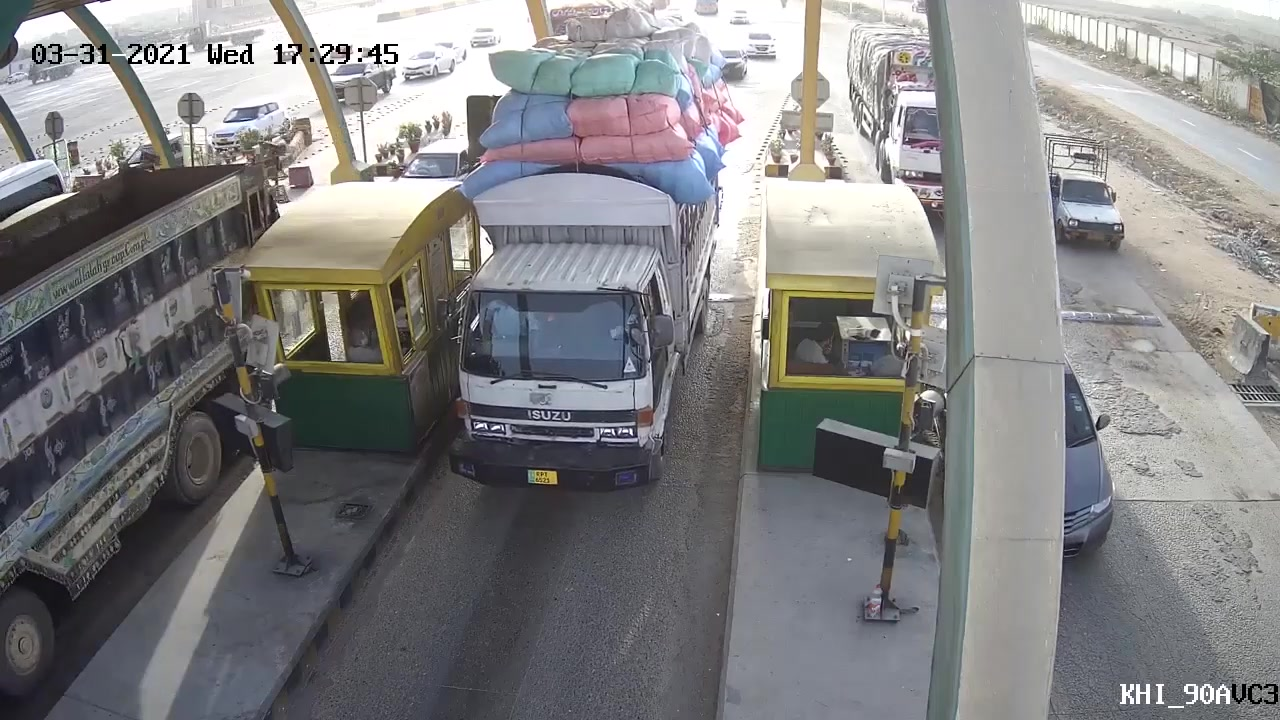F5: (439, 30, 722, 488)
